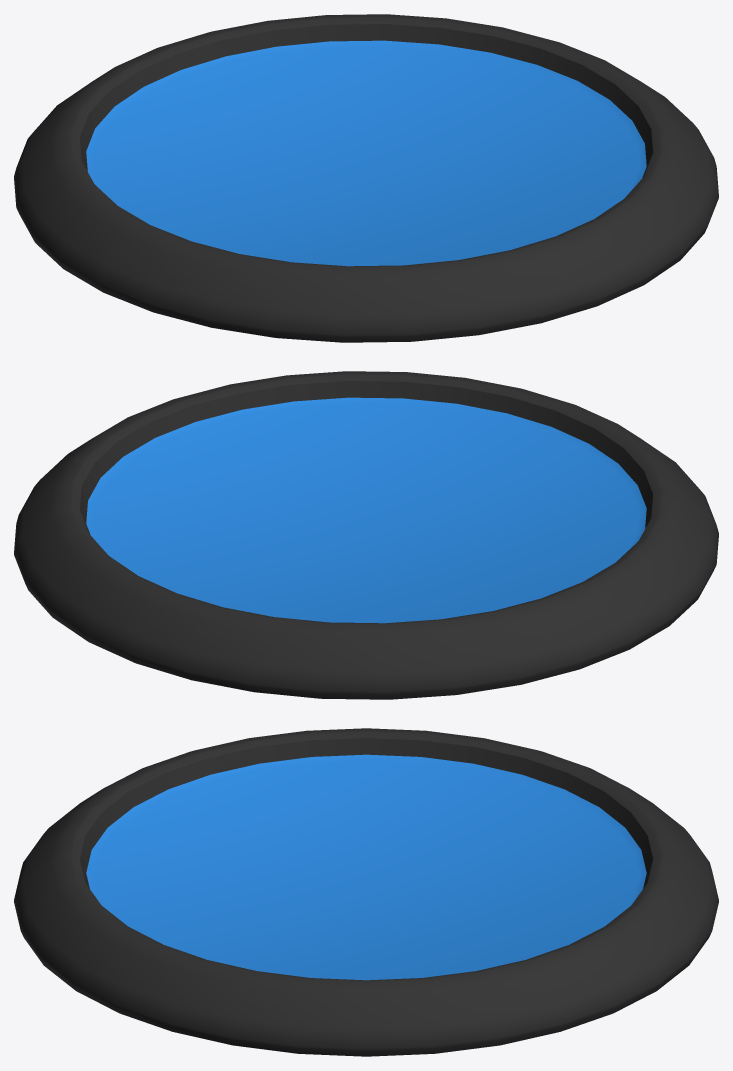
File: effect_pad.fbx
3 renders of one model, top to bottom at view 1: azimuth 30°, elevation 25°; view 2: azimuth 150°, elevation 25°; view 3: azimuth 270°, elevation 25°, orthographic.
Parts seen in each view (by area): view 1: Cylinder; view 2: Cylinder; view 3: Cylinder.
Boxes of the visible parts, x1,y1,x2,y2 form: Cylinder: (14, 14, 718, 342); Cylinder: (14, 371, 718, 699); Cylinder: (14, 728, 718, 1056).
Size of the model in its own units: 400 by 400 by 34.88.
